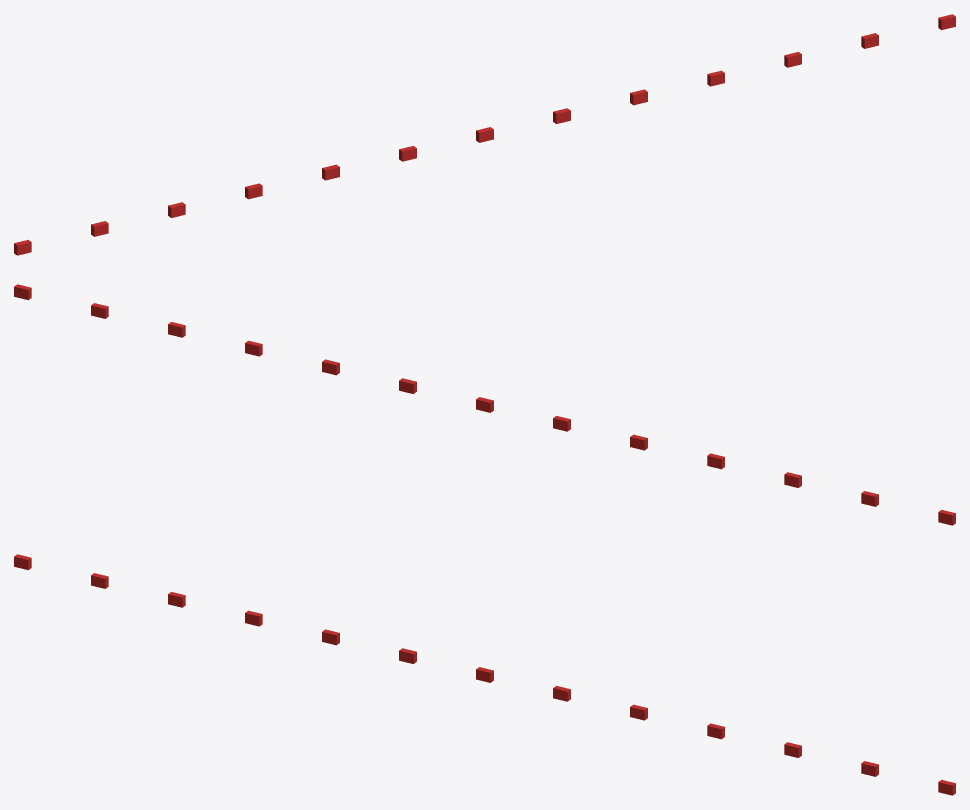
File: SM_DK_14_Timing_gantry_signs_and_pit_furniture_red.fbx
The picture shows the model from 3 angles, top to bottom: view 1: azimuth 30°, elevation 25°; view 2: azimuth 150°, elevation 25°; view 3: azimuth 330°, elevation 25°; orthographic projection.
Parts seen in each view (by area): view 1: 14 Timing gantry signs and pit furniture | red; view 2: 14 Timing gantry signs and pit furniture | red; view 3: 14 Timing gantry signs and pit furniture | red.
Part boxes in pixels (left/top/right/bottom): 14 Timing gantry signs and pit furniture | red: left=14, top=14, right=955, bottom=255; 14 Timing gantry signs and pit furniture | red: left=14, top=284, right=955, bottom=525; 14 Timing gantry signs and pit furniture | red: left=14, top=554, right=955, bottom=795.
Size of the model in its own units: 9750 by 60 by 100.
